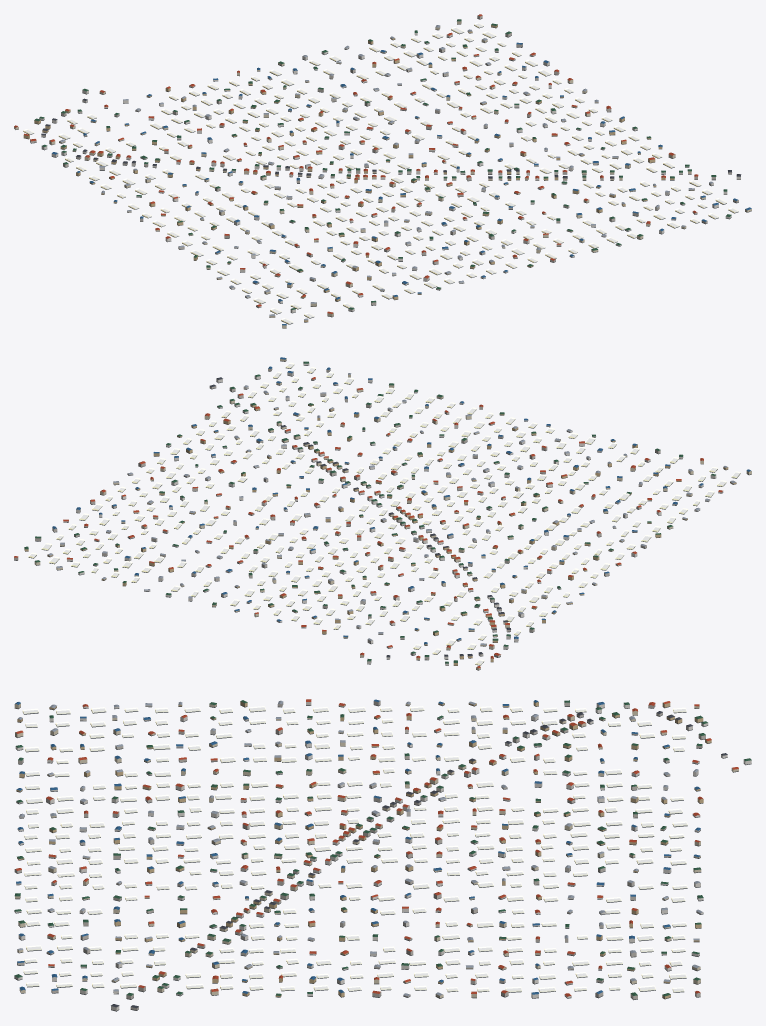
Rendered from buildings_T_W08_S01.glb.
3 renders of one model, top to bottom at view 1: azimuth 30°, elevation 25°; view 2: azimuth 150°, elevation 25°; view 3: azimuth 270°, elevation 25°, orthographic. The views are drawn at different scales.
Visible parts, largest first — view 1: T_W08_S01_roofs_agri_greenhouse_arch, T_W08_S01_slope_seating_foundations, T_W08_S01_walls_wall_modern_warm_white, T_W08_S01_walls_wall_french_ochre_villa, T_W08_S01_walls_wall_dalat_cream_stucco, T_W08_S01_roofs_roof_terracotta_gable, T_W08_S01_walls_wall_pastel_sand_gray, T_W08_S01_roofs_roof_pine_green_hip, T_W08_S01_roofs_roof_highland_blue_gable, T_W08_S01_roofs_roof_zinc_silver_gable; view 2: T_W08_S01_roofs_agri_greenhouse_arch, T_W08_S01_slope_seating_foundations, T_W08_S01_walls_wall_modern_warm_white, T_W08_S01_walls_wall_french_ochre_villa, T_W08_S01_walls_wall_dalat_cream_stucco, T_W08_S01_roofs_roof_terracotta_gable, T_W08_S01_walls_wall_pastel_sand_gray, T_W08_S01_roofs_roof_pine_green_hip, T_W08_S01_roofs_roof_highland_blue_gable, T_W08_S01_roofs_roof_zinc_silver_gable; view 3: T_W08_S01_roofs_agri_greenhouse_arch, T_W08_S01_slope_seating_foundations, T_W08_S01_walls_wall_modern_warm_white, T_W08_S01_walls_wall_french_ochre_villa, T_W08_S01_walls_wall_dalat_cream_stucco, T_W08_S01_roofs_roof_terracotta_gable, T_W08_S01_walls_wall_pastel_sand_gray, T_W08_S01_roofs_roof_pine_green_hip, T_W08_S01_roofs_roof_highland_blue_gable, T_W08_S01_roofs_roof_zinc_silver_gable, T_W08_S01_roofs_roof_slate_French_villa_hip.
Boxes of the visible parts, <box> form: T_W08_S01_roofs_agri_greenhouse_arch: <box>23,22,738,324</box>; T_W08_S01_slope_seating_foundations: <box>14,18,751,328</box>; T_W08_S01_walls_wall_modern_warm_white: <box>39,33,740,312</box>; T_W08_S01_walls_wall_french_ochre_villa: <box>23,25,674,321</box>; T_W08_S01_walls_wall_dalat_cream_stucco: <box>14,20,751,328</box>; T_W08_S01_roofs_roof_terracotta_gable: <box>14,14,698,313</box>; T_W08_S01_walls_wall_pastel_sand_gray: <box>30,15,738,305</box>; T_W08_S01_roofs_roof_pine_green_hip: <box>34,19,731,309</box>; T_W08_S01_roofs_roof_highland_blue_gable: <box>52,42,751,325</box>; T_W08_S01_roofs_roof_zinc_silver_gable: <box>59,25,713,320</box>; T_W08_S01_roofs_agri_greenhouse_arch: <box>28,362,740,665</box>; T_W08_S01_slope_seating_foundations: <box>14,360,751,670</box>; T_W08_S01_walls_wall_modern_warm_white: <box>63,362,723,665</box>; T_W08_S01_walls_wall_french_ochre_villa: <box>24,404,736,665</box>; T_W08_S01_walls_wall_dalat_cream_stucco: <box>34,358,751,670</box>; T_W08_S01_roofs_roof_terracotta_gable: <box>14,377,722,668</box>; T_W08_S01_walls_wall_pastel_sand_gray: <box>14,368,677,659</box>; T_W08_S01_roofs_roof_pine_green_hip: <box>24,361,715,663</box>; T_W08_S01_roofs_roof_highland_blue_gable: <box>52,357,750,644</box>; T_W08_S01_roofs_roof_zinc_silver_gable: <box>48,373,736,645</box>; T_W08_S01_roofs_agri_greenhouse_arch: <box>22,706,687,992</box>; T_W08_S01_slope_seating_foundations: <box>14,704,751,1011</box>; T_W08_S01_walls_wall_modern_warm_white: <box>14,702,751,1010</box>; T_W08_S01_walls_wall_french_ochre_villa: <box>16,701,711,998</box>; T_W08_S01_walls_wall_dalat_cream_stucco: <box>14,703,738,998</box>; T_W08_S01_roofs_roof_terracotta_gable: <box>15,699,738,996</box>; T_W08_S01_walls_wall_pastel_sand_gray: <box>14,701,705,1010</box>; T_W08_S01_roofs_roof_pine_green_hip: <box>14,700,751,996</box>; T_W08_S01_roofs_roof_highland_blue_gable: <box>15,699,700,994</box>; T_W08_S01_roofs_roof_zinc_silver_gable: <box>17,700,702,996</box>; T_W08_S01_roofs_roof_slate_French_villa_hip: <box>111,711,727,1008</box>.
Bounding box in the file's own units: 1843 × 30.68 × 1875.
